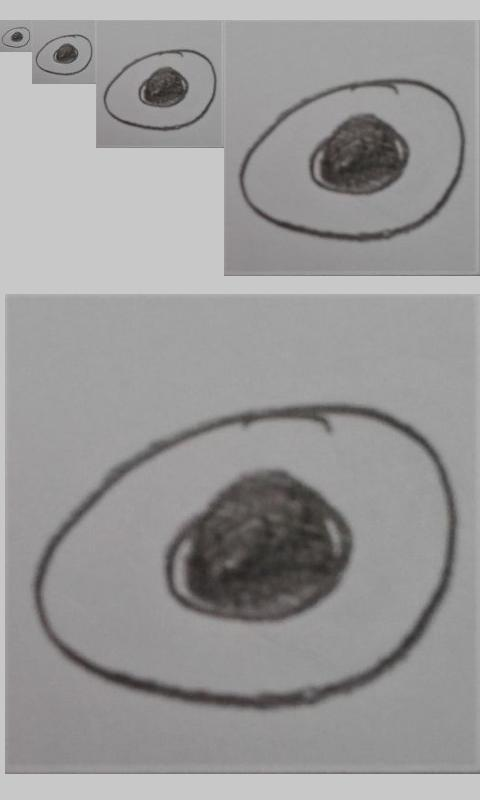radio_button: (31, 401, 460, 713), (237, 76, 467, 243), (103, 47, 218, 132), (35, 34, 93, 76), (1, 26, 31, 48)
